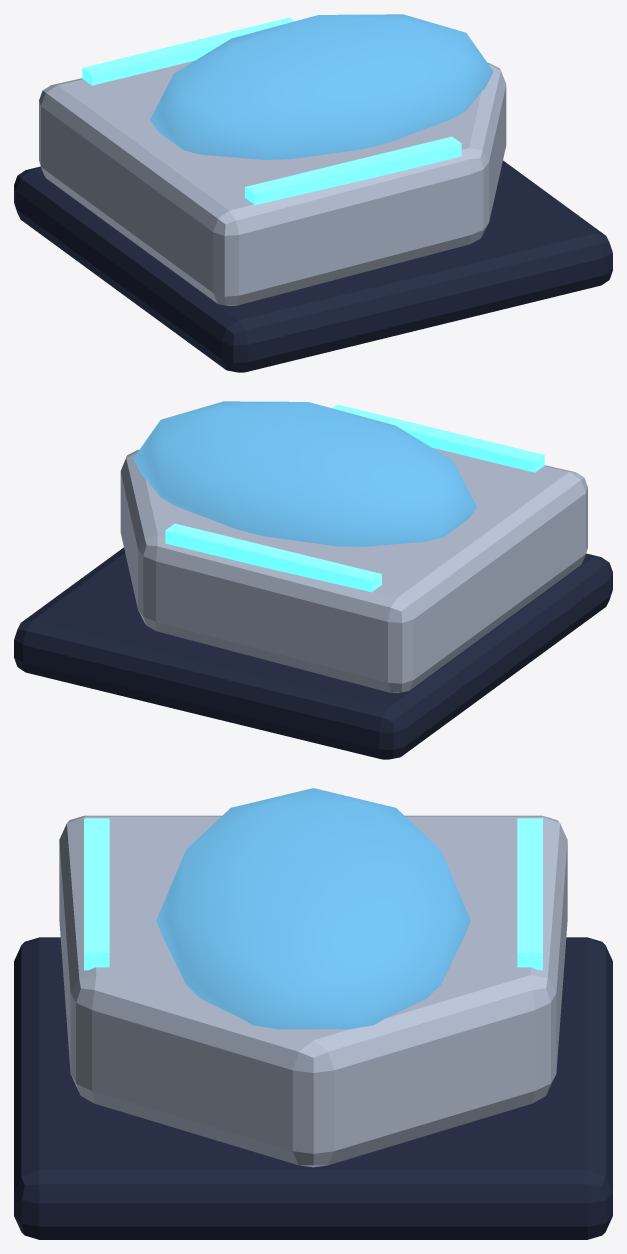
The model's file is mod_cockpit.glb.
3 views of the same model, one above another, from view 1: azimuth 30°, elevation 25°; view 2: azimuth 150°, elevation 25°; view 3: azimuth 270°, elevation 25° (orthographic). The views are drawn at different scales.
Parts seen in each view (by area): view 1: mod_cockpit; view 2: mod_cockpit; view 3: mod_cockpit.
Part boxes in pixels (bbox=[...]): mod_cockpit: bbox=[14, 14, 612, 372]; mod_cockpit: bbox=[14, 401, 612, 759]; mod_cockpit: bbox=[14, 788, 612, 1239].
Bounding box in the file's own units: 0.94 × 0.503 × 0.94.
